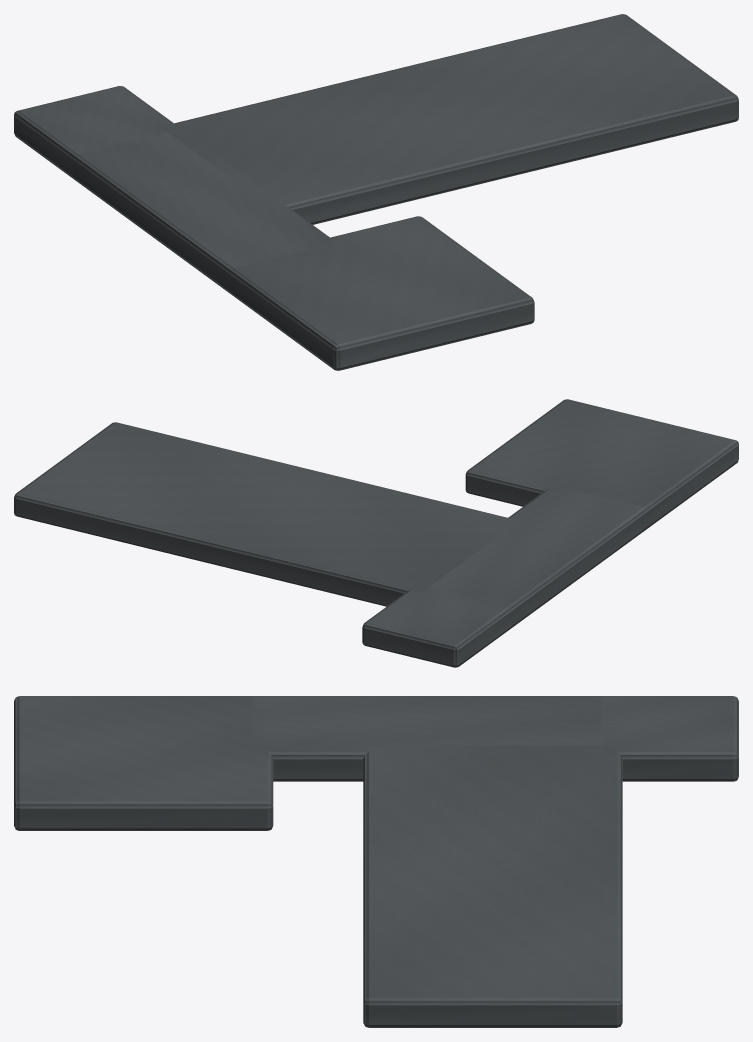
Rendered from retreat_global_a3_roof.glb.
3 renders of one model, top to bottom at view 1: azimuth 30°, elevation 25°; view 2: azimuth 150°, elevation 25°; view 3: azimuth 270°, elevation 25°, orthographic. The views are drawn at different scales.
Visible parts, largest first — view 1: Roof_Dining, Roof_Kitchen, Roof_Hallway, Roof_Entrance; view 2: Roof_Dining, Roof_Kitchen, Roof_Hallway, Roof_Entrance; view 3: Roof_Dining, Roof_Kitchen, Roof_Hallway, Roof_Entrance.
Boxes of the visible parts, left/top/right/bottom form: Roof_Dining: left=161, top=14, right=738, bottom=224; Roof_Kitchen: left=222, top=216, right=534, bottom=370; Roof_Hallway: left=67, top=130, right=335, bottom=292; Roof_Entrance: left=14, top=86, right=178, bottom=176; Roof_Dining: left=14, top=422, right=518, bottom=606; Roof_Kitchen: left=465, top=399, right=738, bottom=532; Roof_Hallway: left=427, top=485, right=646, bottom=632; Roof_Entrance: left=362, top=586, right=510, bottom=667; Roof_Dining: left=363, top=745, right=622, bottom=1027; Roof_Kitchen: left=14, top=696, right=273, bottom=830; Roof_Hallway: left=252, top=696, right=616, bottom=781; Roof_Entrance: left=601, top=696, right=738, bottom=781.
Size of the model in its own units: 9.34 by 0.42 by 9.34.
Materials: 1 (1 with a texture image).
